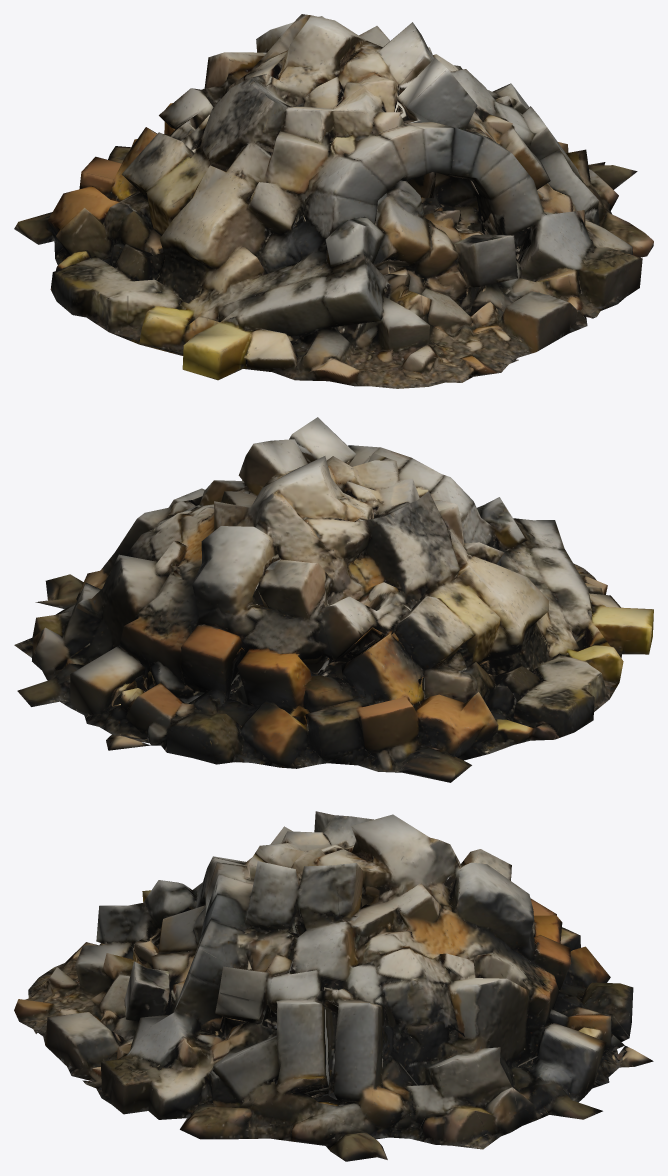
Rendered from Meshy_AI_Rubble_Pile_1016084258_texture.fbx.
The picture shows the model from 3 angles, top to bottom: view 1: azimuth 30°, elevation 25°; view 2: azimuth 150°, elevation 25°; view 3: azimuth 270°, elevation 25°; orthographic projection. The views are drawn at different scales.
Parts seen in each view (by area): view 1: Mesh1.0; view 2: Mesh1.0; view 3: Mesh1.0.
Part boxes in pixels (x1,y1,x2,y2): Mesh1.0: (14,14,653,388); Mesh1.0: (14,417,653,782); Mesh1.0: (14,811,653,1161).
Bounding box in the file's own units: 189 × 67.73 × 189.
Materials: 1 (1 with a texture image).
